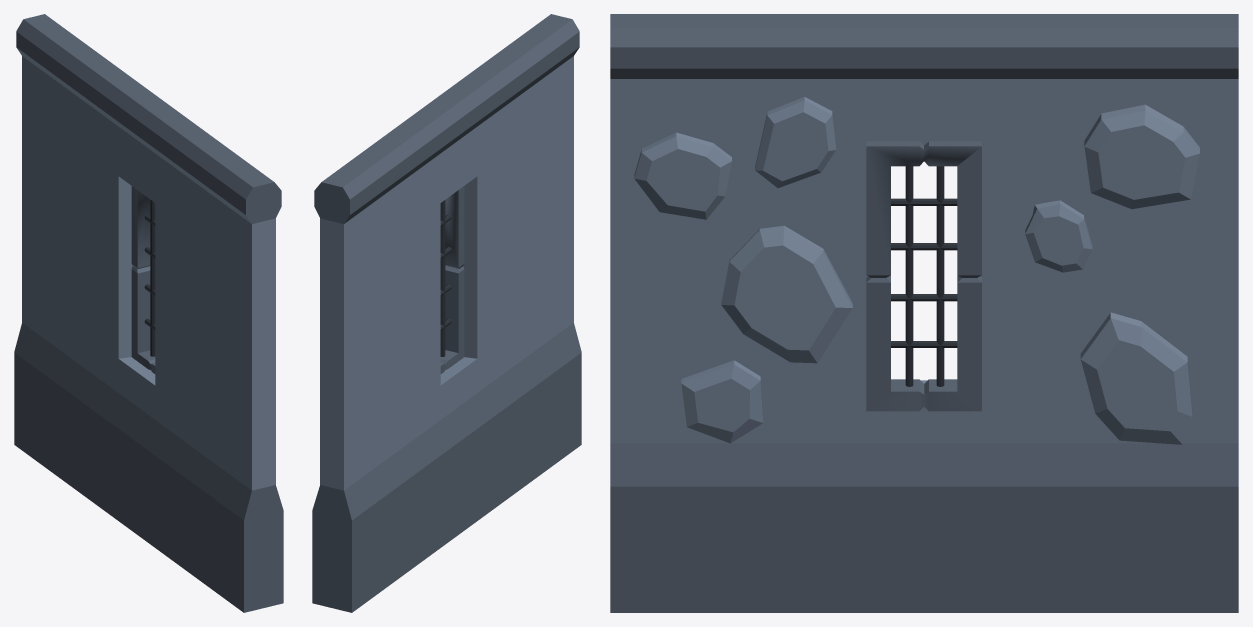
Rendered from WallWindowed02.fbx.
3 views of the same model, side by side, from view 1: azimuth 30°, elevation 25°; view 2: azimuth 150°, elevation 25°; view 3: azimuth 270°, elevation 25° (orthographic). The views are drawn at different scales.
Parts seen in each view (by area): view 1: Cube.000; view 2: Cube.000; view 3: Cube.000.
Boxes of the visible parts, <box> form: Cube.000: <box>14,14,283,612</box>; Cube.000: <box>312,14,581,612</box>; Cube.000: <box>610,14,1238,612</box>.
Bounding box in the file's own units: 91.35 × 813 × 800.
Materials: 1 (1 with a texture image).
